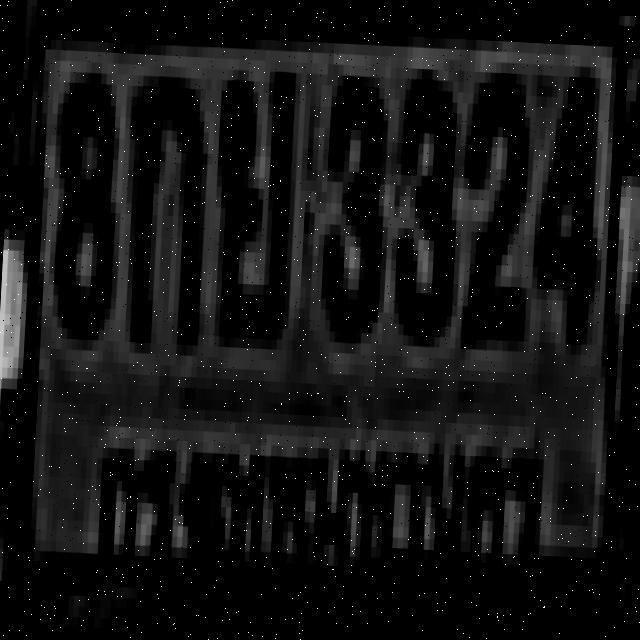10GorGai: (120, 64, 208, 346)
2: (453, 67, 530, 336)
3: (314, 64, 386, 333), (388, 68, 459, 327)
4: (530, 64, 600, 333)
43YorYak: (207, 64, 294, 334)
8: (46, 66, 118, 325)
Bangkok: (81, 403, 556, 590)
